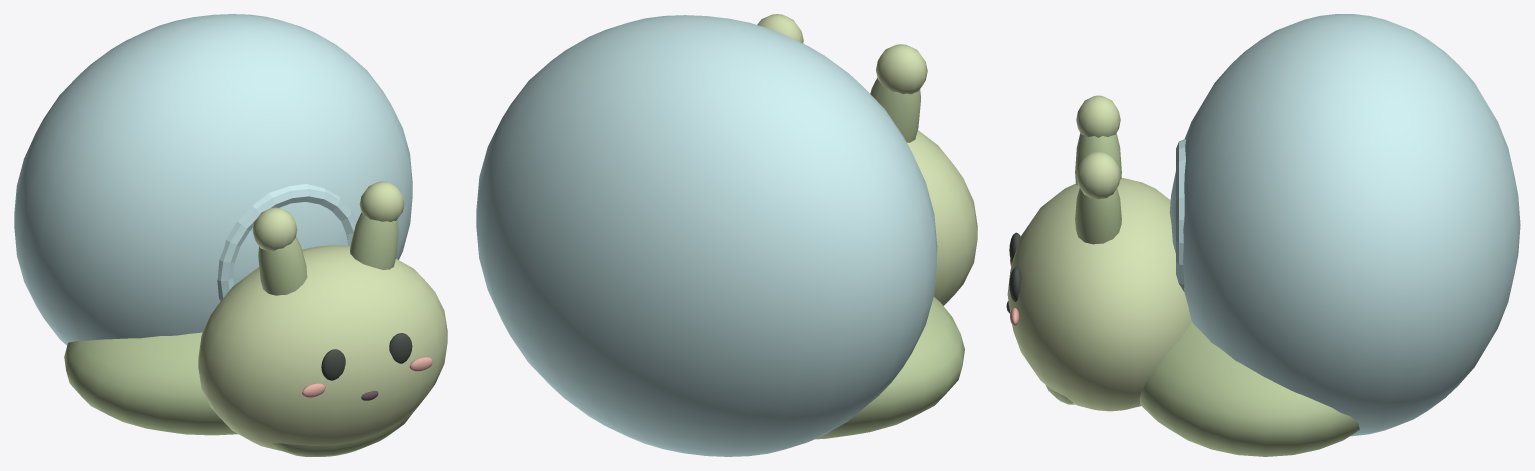
The model's file is bubble-snail.glb.
The picture shows the model from 3 angles, left to right: view 1: azimuth 30°, elevation 25°; view 2: azimuth 150°, elevation 25°; view 3: azimuth 270°, elevation 25°; orthographic projection. The views are drawn at different scales.
Visible parts, largest first — view 1: BubbleShell, Head, FootBody, BubbleInnerRing, Antenna_R, Antenna_L, Antenna_L_Tip, Antenna_R_Tip, Belly, Eye_L, Eye_R; view 2: BubbleShell, FootBody, Head, Antenna_L_Tip, Antenna_L, Antenna_R_Tip; view 3: BubbleShell, Head, FootBody, Antenna_R, Antenna_R_Tip, Antenna_L_Tip, BubbleInnerRing, Antenna_L.
Part boxes in pixels (left/top/right/bottom): BubbleShell: left=14, top=14, right=412, bottom=345; Head: left=198, top=245, right=447, bottom=450; FootBody: left=64, top=332, right=237, bottom=435; BubbleInnerRing: left=217, top=184, right=356, bottom=301; Antenna_R: left=350, top=213, right=398, bottom=269; Antenna_L: left=258, top=236, right=307, bottom=295; Antenna_L_Tip: left=252, top=207, right=297, bottom=250; Antenna_R_Tip: left=359, top=181, right=404, bottom=221; Belly: left=272, top=413, right=412, bottom=456; Eye_L: left=321, top=349, right=345, bottom=380; Eye_R: left=389, top=333, right=412, bottom=363; BubbleShell: left=476, top=15, right=937, bottom=456; FootBody: left=815, top=297, right=964, bottom=439; Head: left=907, top=130, right=977, bottom=305; Antenna_L_Tip: left=876, top=44, right=927, bottom=94; Antenna_L: left=870, top=78, right=920, bottom=142; Antenna_R_Tip: left=757, top=14, right=803, bottom=43; BubbleShell: left=1169, top=14, right=1520, bottom=436; Head: left=1007, top=178, right=1191, bottom=411; FootBody: left=1139, top=322, right=1359, bottom=456; Antenna_R: left=1075, top=188, right=1121, bottom=244; Antenna_R_Tip: left=1076, top=151, right=1120, bottom=199; Antenna_L_Tip: left=1076, top=95, right=1120, bottom=137; BubbleInnerRing: left=1176, top=139, right=1185, bottom=291; Antenna_L: left=1075, top=133, right=1121, bottom=184.
Size of the model in its own units: 0.7658 by 0.71 by 0.877.
